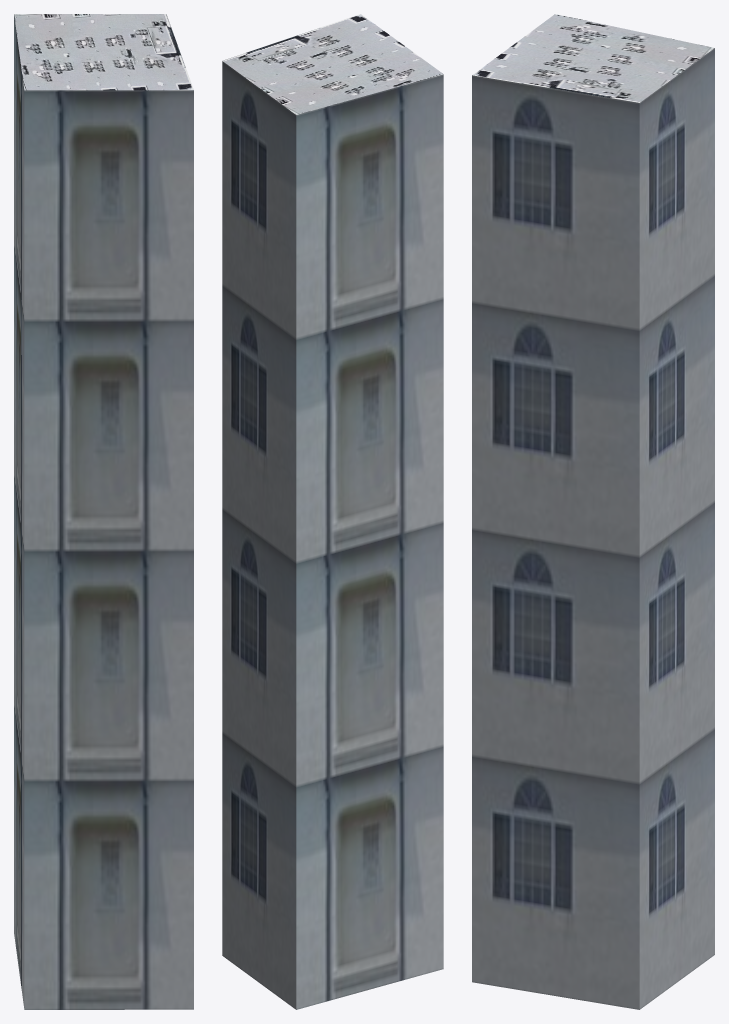
The model's file is ResTex__5256.fbx.
3 views of the same model, side by side, from view 1: azimuth 30°, elevation 25°; view 2: azimuth 150°, elevation 25°; view 3: azimuth 270°, elevation 25° (orthographic). The views are drawn at different scales.
Visible parts, largest first — view 1: CityEngineMaterial_17_m, CityEngineMaterial_8_m; view 2: CityEngineMaterial_17_m, CityEngineMaterial_8_m; view 3: CityEngineMaterial_17_m, CityEngineMaterial_8_m.
Part boxes in pixels (left/top/right/bottom): CityEngineMaterial_17_m: left=14, top=15, right=193, bottom=1009; CityEngineMaterial_8_m: left=14, top=14, right=193, bottom=90; CityEngineMaterial_17_m: left=222, top=61, right=443, bottom=1009; CityEngineMaterial_8_m: left=222, top=14, right=443, bottom=114; CityEngineMaterial_17_m: left=472, top=48, right=714, bottom=1009; CityEngineMaterial_8_m: left=472, top=14, right=714, bottom=102.
Size of the model in its own units: 2.53 by 12 by 2.91.
2 materials, 2 textured.
